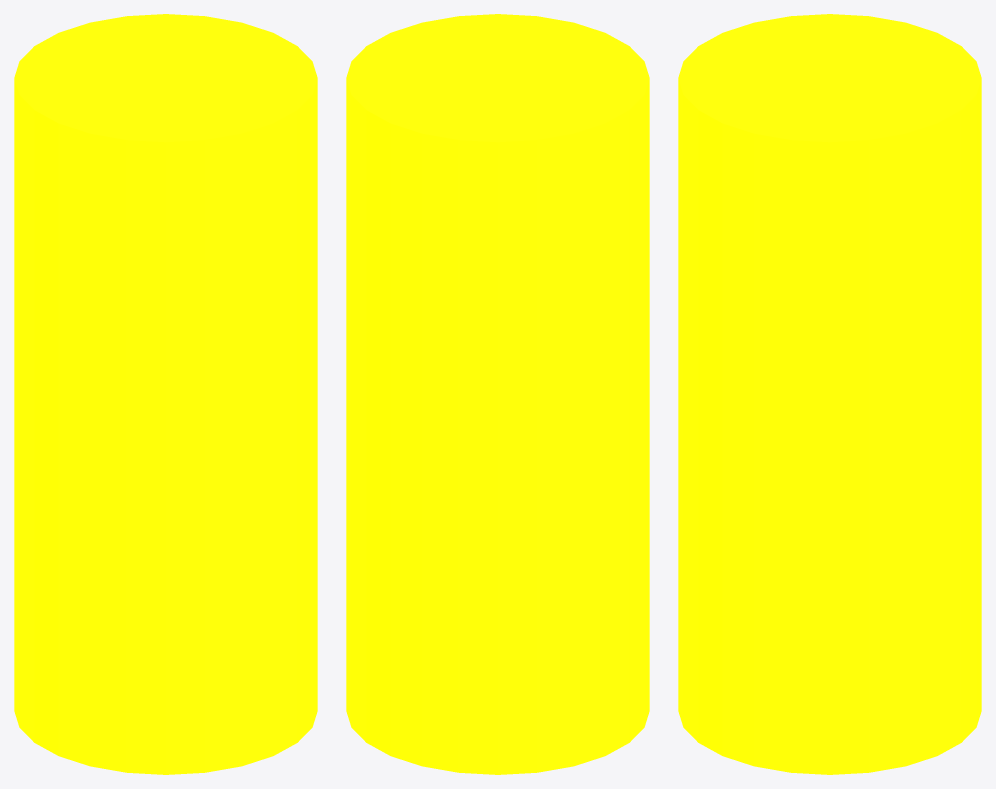
The model's file is bullet.glb.
The picture shows the model from 3 angles, left to right: view 1: azimuth 30°, elevation 25°; view 2: azimuth 150°, elevation 25°; view 3: azimuth 270°, elevation 25°; orthographic projection.
Visible parts, largest first — view 1: Cylinder; view 2: Cylinder; view 3: Cylinder.
Boxes of the visible parts, x1=… form: Cylinder: x1=14, y1=14, x2=317, y2=774; Cylinder: x1=346, y1=14, x2=649, y2=774; Cylinder: x1=678, y1=14, x2=981, y2=774.
Size of the model in its own units: 0.1 by 0.23 by 0.1.
